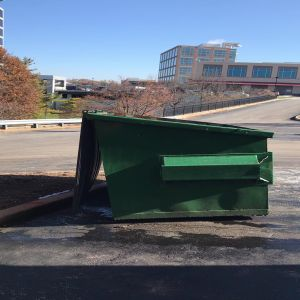Dumpster: (72, 109, 278, 226)
